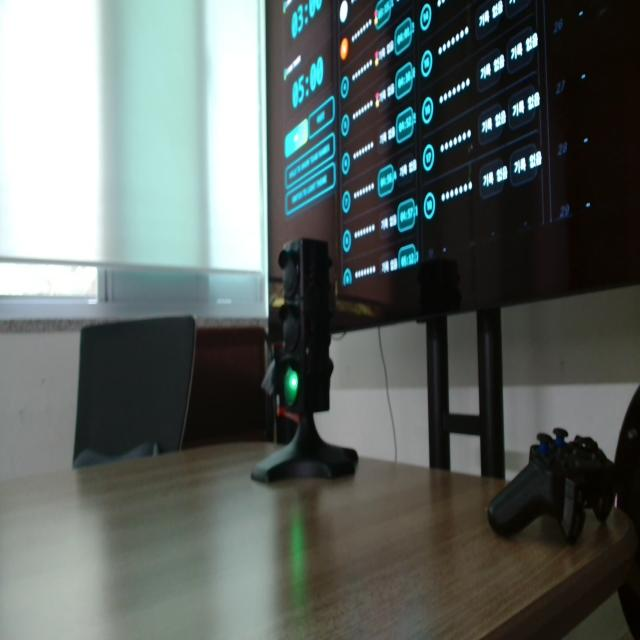green_light: (284, 367, 298, 405)
